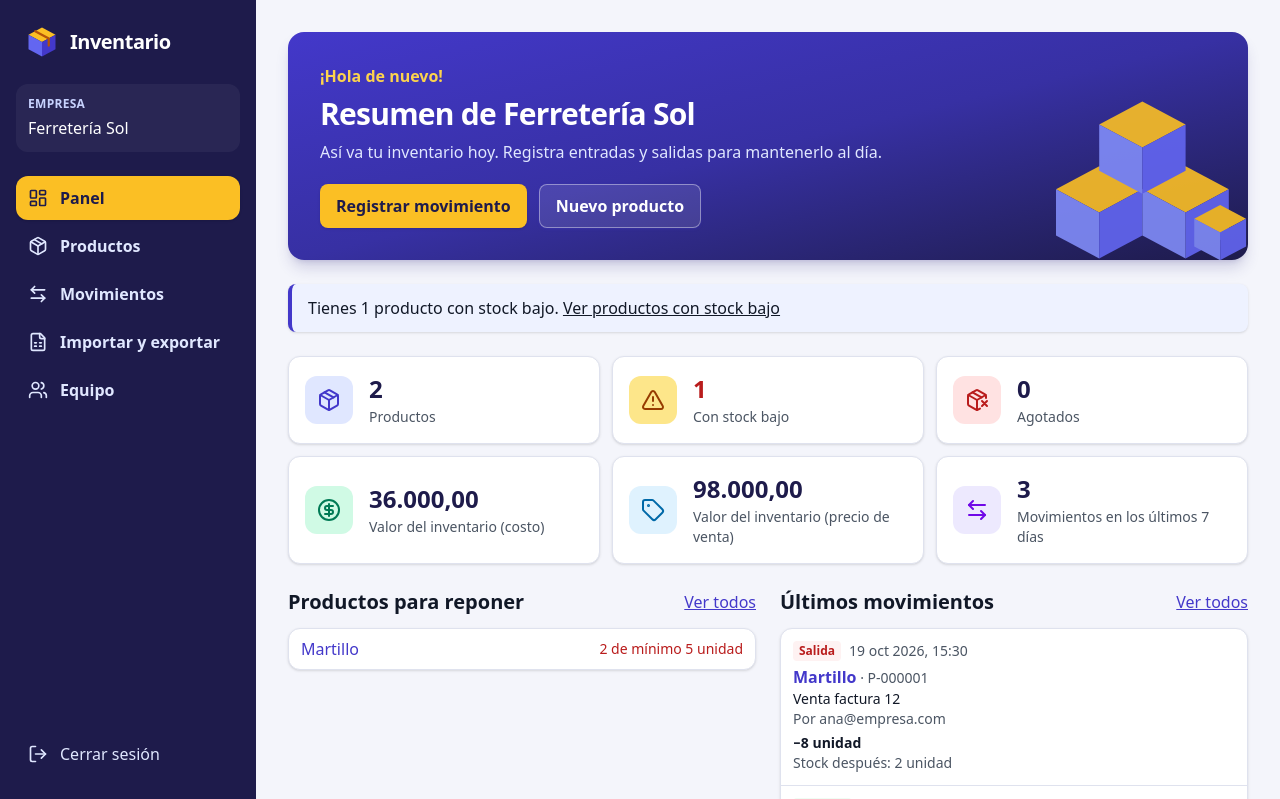
Test: Panel › resume el inventario, alerta el stock bajo y lleva a la lista filtrada
expect the text "Tienes 1 producto con stock bajo." is shown: met, box [308, 297, 559, 319]
expect the text "Agotados" shows "0": met, box [1017, 372, 1031, 405]
Click the link "Ver productos con stock bajo". click: (671, 308)
box: [563, 297, 780, 319]
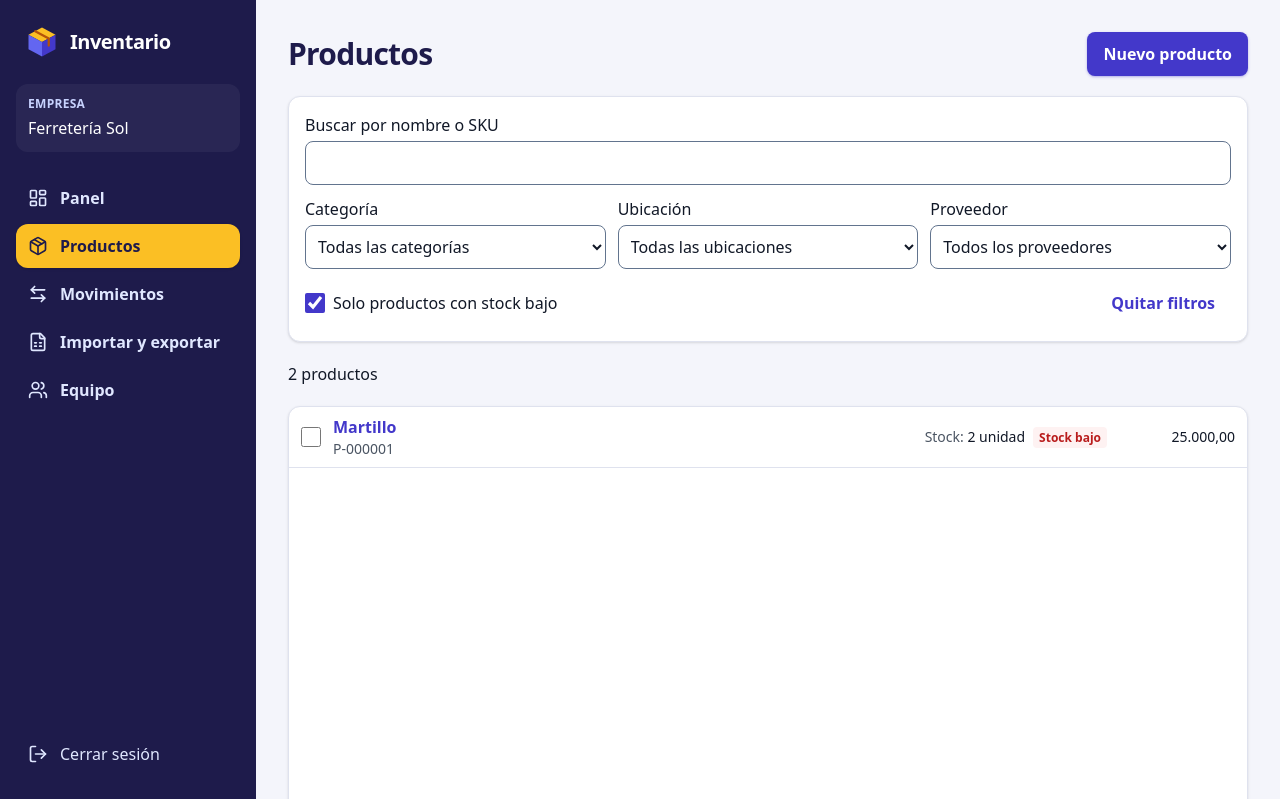
expect the checkbox labelled "Solo productos con stock bajo" is checked: met, box [305, 293, 325, 313]
